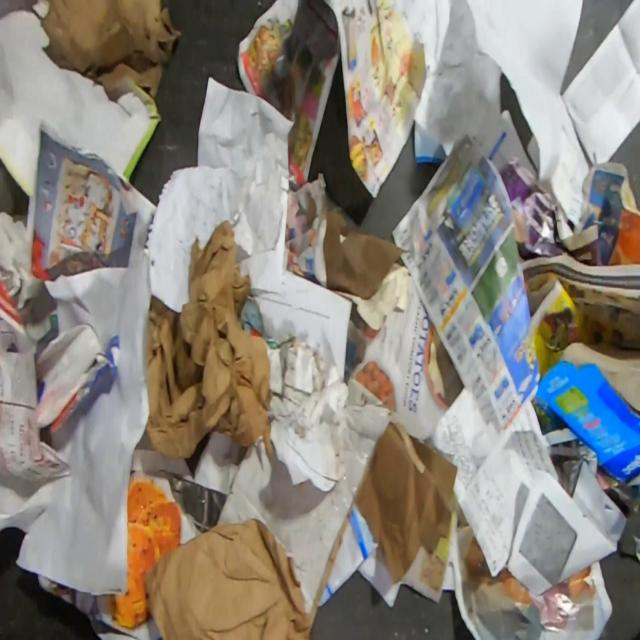cardboard: (216, 376, 459, 639), (0, 0, 163, 198), (36, 470, 202, 640), (143, 516, 310, 640), (22, 130, 156, 282), (348, 275, 464, 442), (531, 339, 640, 488), (40, 0, 182, 100), (32, 324, 122, 455), (496, 154, 599, 265), (322, 205, 410, 300)
